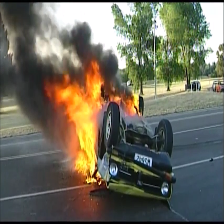fire_h: (43, 57, 106, 176), (122, 87, 142, 116)
fire_l: (84, 172, 102, 186), (109, 94, 121, 105), (110, 81, 116, 91)
